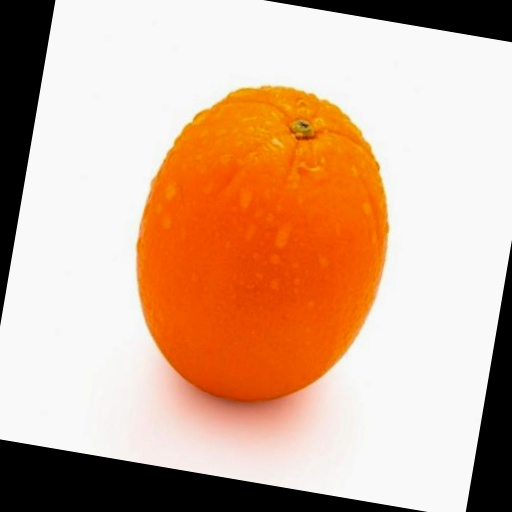fruit: (137, 87, 388, 400)
